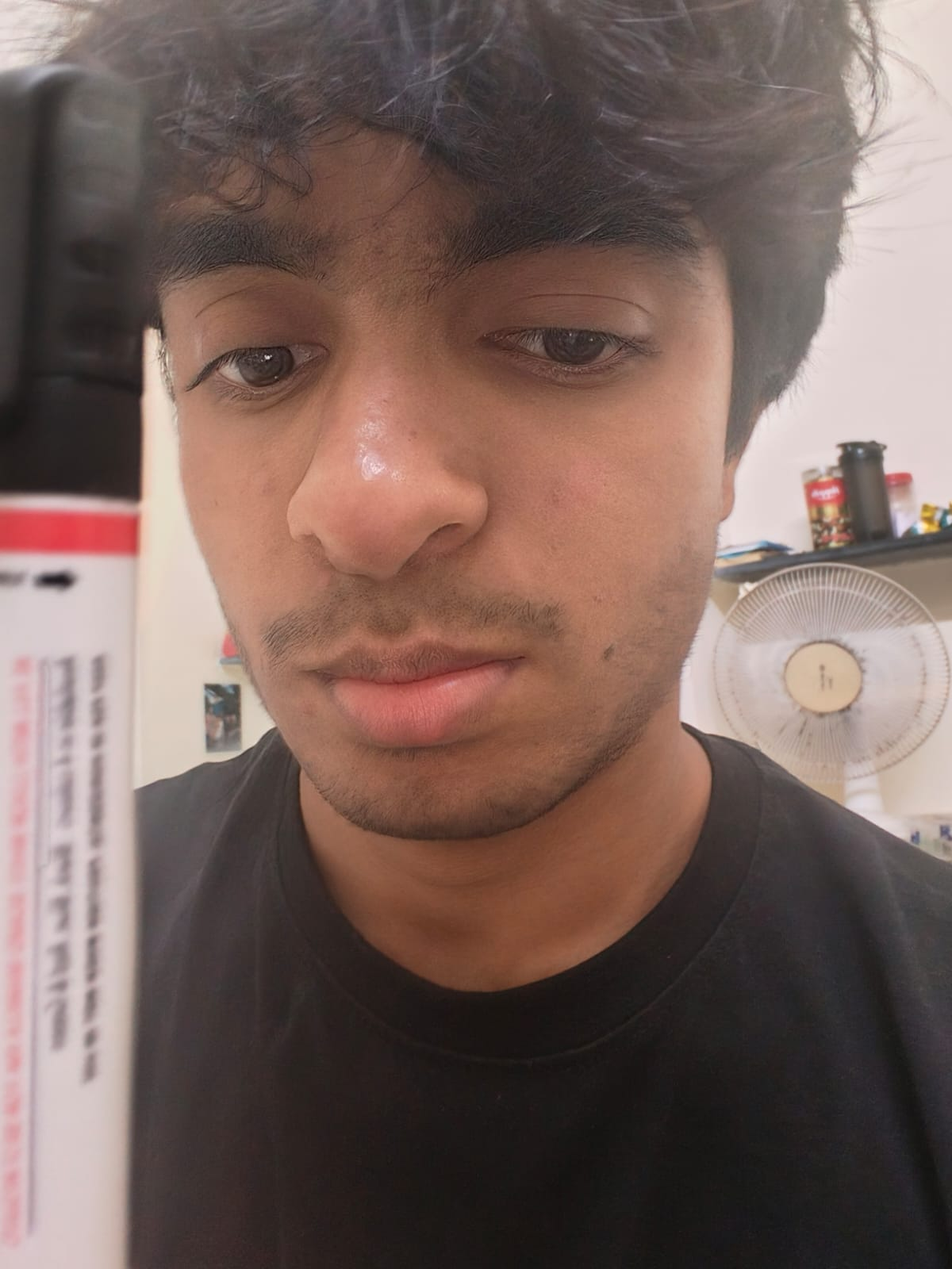case: (8, 77, 175, 1266)
